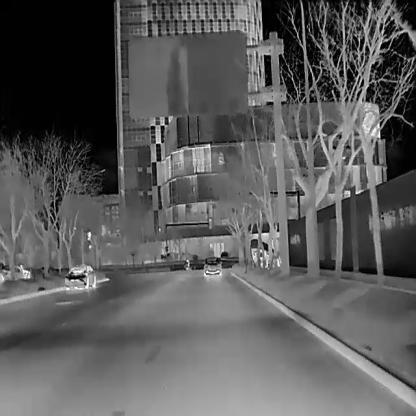car: (63, 263, 96, 292), (1, 264, 30, 280), (202, 256, 222, 276)
